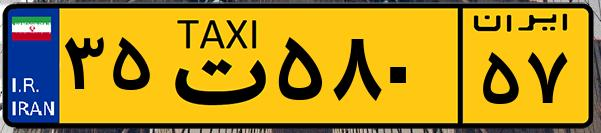0: (385, 28, 445, 110)
3: (57, 26, 110, 100)
5: (270, 28, 330, 110), (475, 38, 525, 113), (110, 28, 158, 98)
7: (525, 38, 570, 115)
8: (330, 28, 385, 110)
ت: (158, 12, 270, 120)
